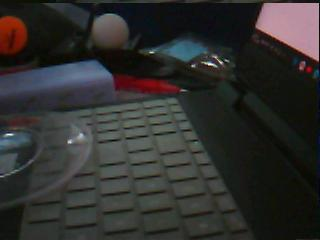oball: (0, 16, 28, 55)
